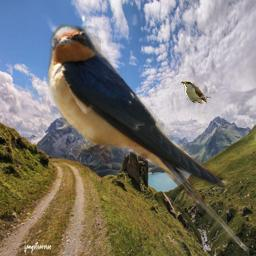Cuckoo: (180, 79, 211, 104)
Swallow: (46, 24, 252, 255)
